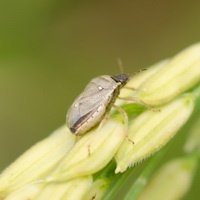insect: (66, 74, 128, 135)
